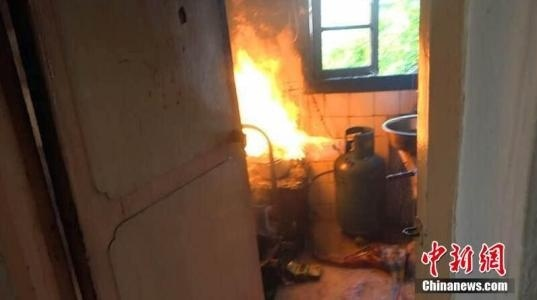fire: (232, 46, 308, 160)
